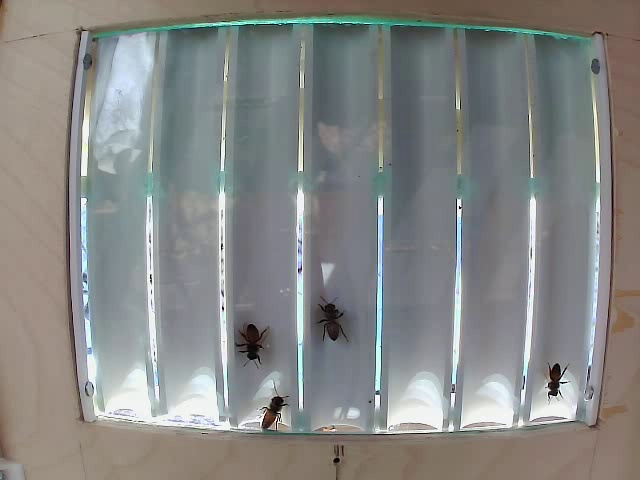bee: (309, 297, 360, 360), (254, 388, 304, 441), (233, 308, 274, 371), (527, 354, 565, 409)
